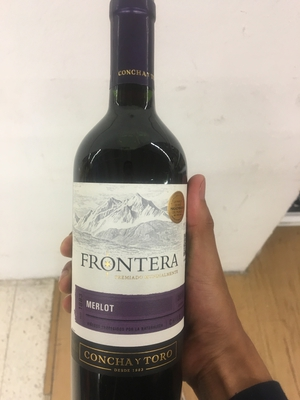frontera merlot: (54, 12, 204, 400)
